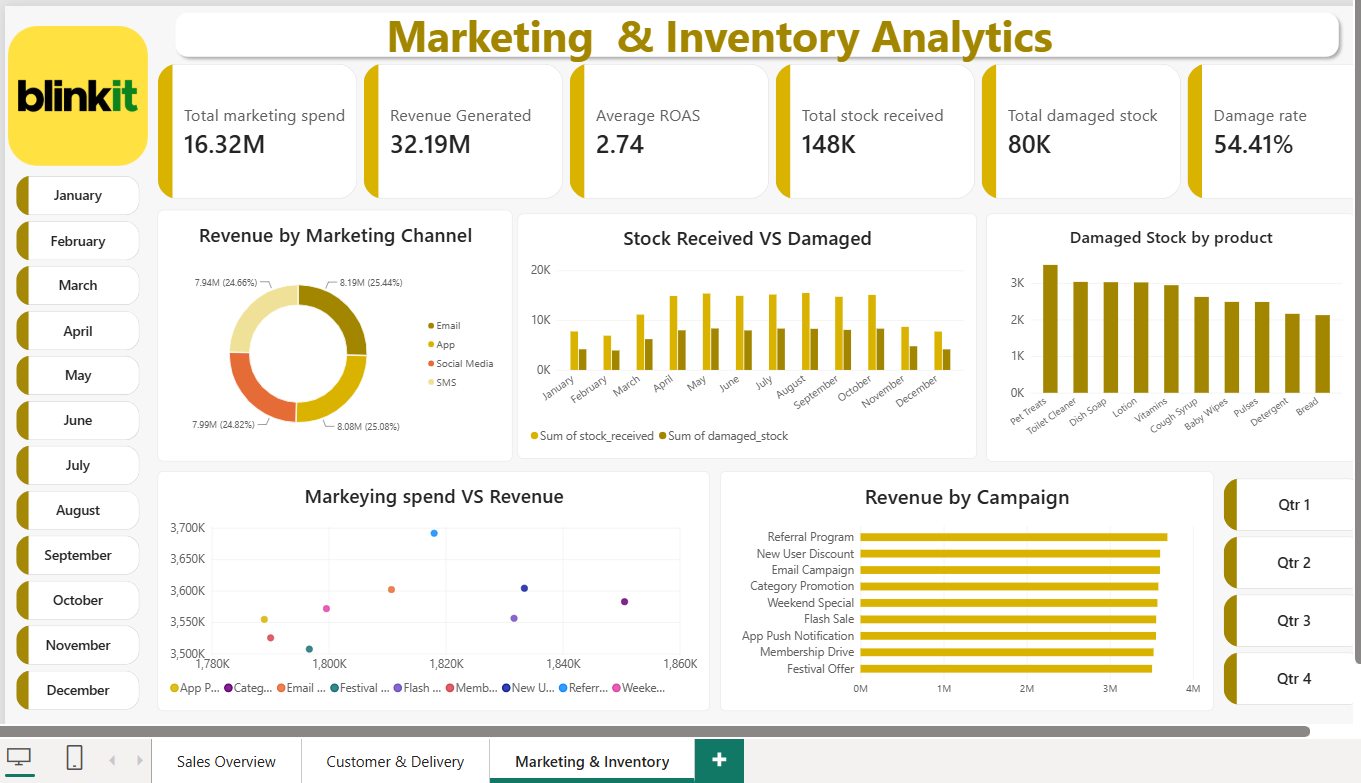

What the dashboard file says about the page in this screenshot:
{"tool":"powerbi","page":{"name":"Marketing & Inventory","canvas":[1920,1080],"ordinal":2},"visuals":[{"type":"image","box":[3.5,28.1,194.7,193],"z":0},{"type":"cardVisual","fields":{"Data":["Sum(public marketing_performance.spend)","Sum(public marketing_performance.revenue_generated)","Avg(public marketing_performance.roas)","Sum(public inventory.stock_received)","Sum(public inventory.damaged_stock)","public inventory.Damage rate"]},"box":[210.5,78.9,1696.5,187.7],"z":1000},{"type":"clusteredBarChart","title":" Revenue by Campaign ","fields":{"Category":["public marketing_performance.campaign_name"],"Y":["Sum(public marketing_performance.revenue_generated)"]},"box":[986,642.1,680.7,331.6],"z":2000},{"type":"donutChart","title":"Revenue by Marketing Channel","fields":{"Category":["public marketing_performance.channel"],"Y":["Sum(public marketing_performance.revenue_generated)"]},"box":[210.5,280.7,489.5,347.4],"z":3000},{"type":"scatterChart","title":"Markeying spend VS Revenue","fields":{"X":["Sum(public marketing_performance.spend)"],"Y":["Sum(public marketing_performance.revenue_generated)"],"Series":["public marketing_performance.campaign_name"]},"box":[210.5,642.1,761.4,331.6],"z":4000},{"type":"clusteredColumnChart","title":"Stock Received VS Damaged","fields":{"Y":["Sum(public inventory.stock_received)","Sum(public inventory.damaged_stock)"],"Category":["public inventory.date.Variation.Date Hierarchy.Month"]},"box":[707,286,633.3,338.6],"z":5000},{"type":"columnChart","title":"Damaged Stock by product","fields":{"Category":["public products.product_name"],"Y":["Sum(public inventory.damaged_stock)"]},"box":[1352.6,286,508.8,342.1],"z":6000},{"type":"advancedSlicerVisual","fields":{"Values":["public marketing_performance.date.Variation.Date Hierarchy.Month"]},"box":[15.8,235.1,170.2,738.6],"z":7000},{"type":"advancedSlicerVisual","fields":{"Values":["public inventory.date.Variation.Date Hierarchy.Quarter"]},"box":[1680.7,650.9,194.7,315.8],"z":7001},{"type":"shape","box":[226.3,0,1622.8,78.9],"z":7002},{"type":"textbox","box":[138.6,0,1694.7,86],"z":7003}]}

Visuals, with their boxes on the page's 1920x1080 design canvas (x1, y1, x2, y2). These are canvas units, not pixel positions in the 1361x783 screenshot, which may show the page scaled, cropped or inside an application window:
image: bbox(4, 28, 198, 221)
cardVisual - Sum(public marketing_performance.spend) x Sum(public marketing_performance.revenue_generated): bbox(210, 79, 1907, 267)
" Revenue by Campaign " clusteredBarChart: bbox(986, 642, 1667, 974)
"Revenue by Marketing Channel" donutChart: bbox(210, 281, 700, 628)
"Markeying spend VS Revenue" scatterChart: bbox(210, 642, 972, 974)
"Stock Received VS Damaged" clusteredColumnChart: bbox(707, 286, 1340, 625)
"Damaged Stock by product" columnChart: bbox(1353, 286, 1861, 628)
advancedSlicerVisual - public marketing_performance.date.Variation.Date Hierarchy.Month: bbox(16, 235, 186, 974)
advancedSlicerVisual - public inventory.date.Variation.Date Hierarchy.Quarter: bbox(1681, 651, 1875, 967)
shape: bbox(226, 0, 1849, 79)
textbox: bbox(139, 0, 1833, 86)
